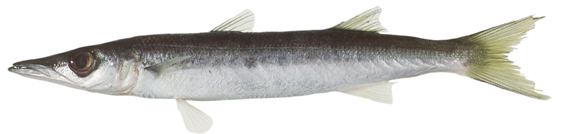fish: (6, 8, 554, 134)
